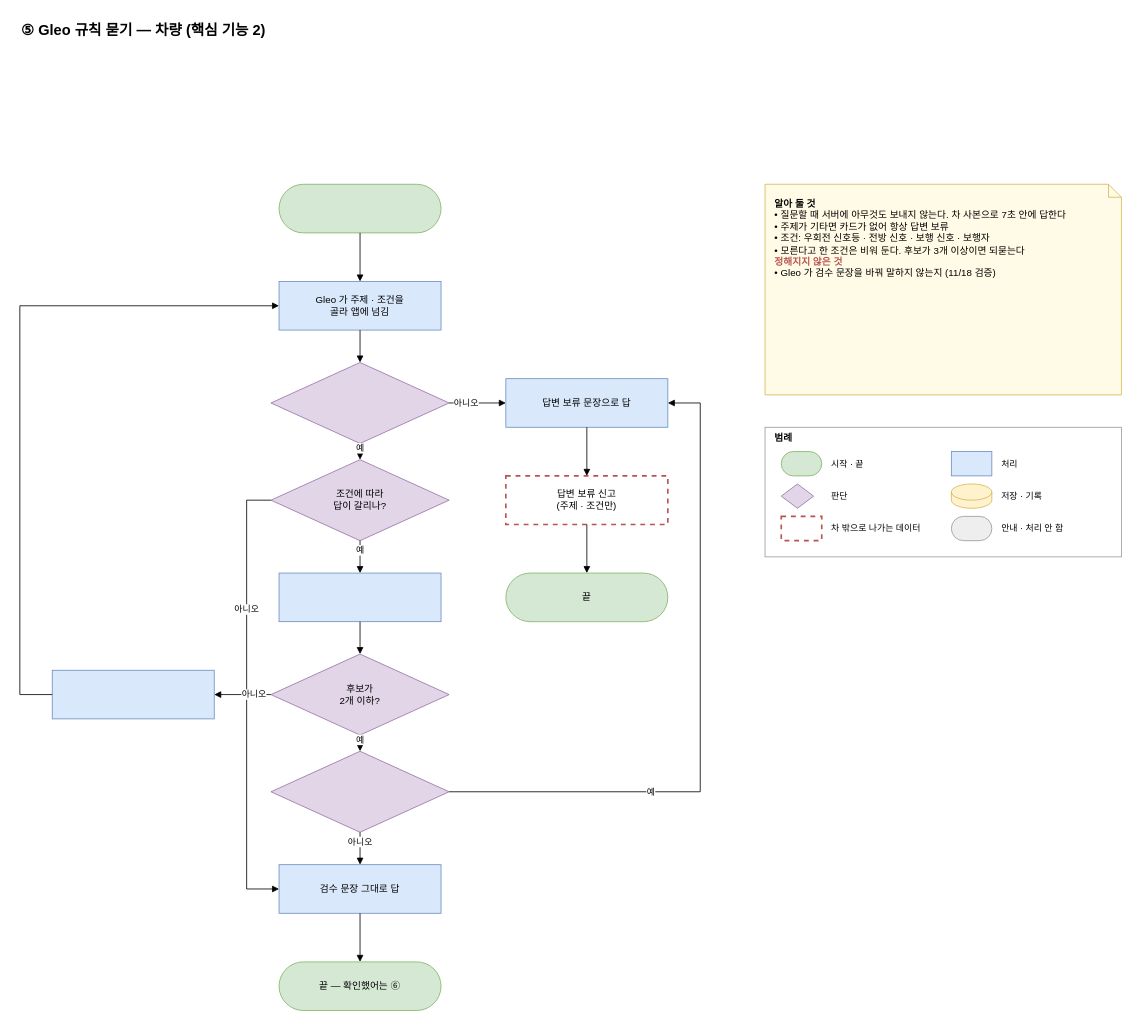
Some shapes in this 1136 by 1025 pixel diagram are drawn without their labels. Each missing label, with the centre of its shape:
"받은 조건과 어긋나지 않는 문장 모으기" goes at (359,597).
"보류 행인가?" goes at (359,791).
"빠진 조건 하나 되묻기" goes at (132,694).
"운전자가 규칙을 물음 예: 우회전 어떻게 해?" goes at (359,208).
"주제의 카드가 사본에 있나?" goes at (359,402).
